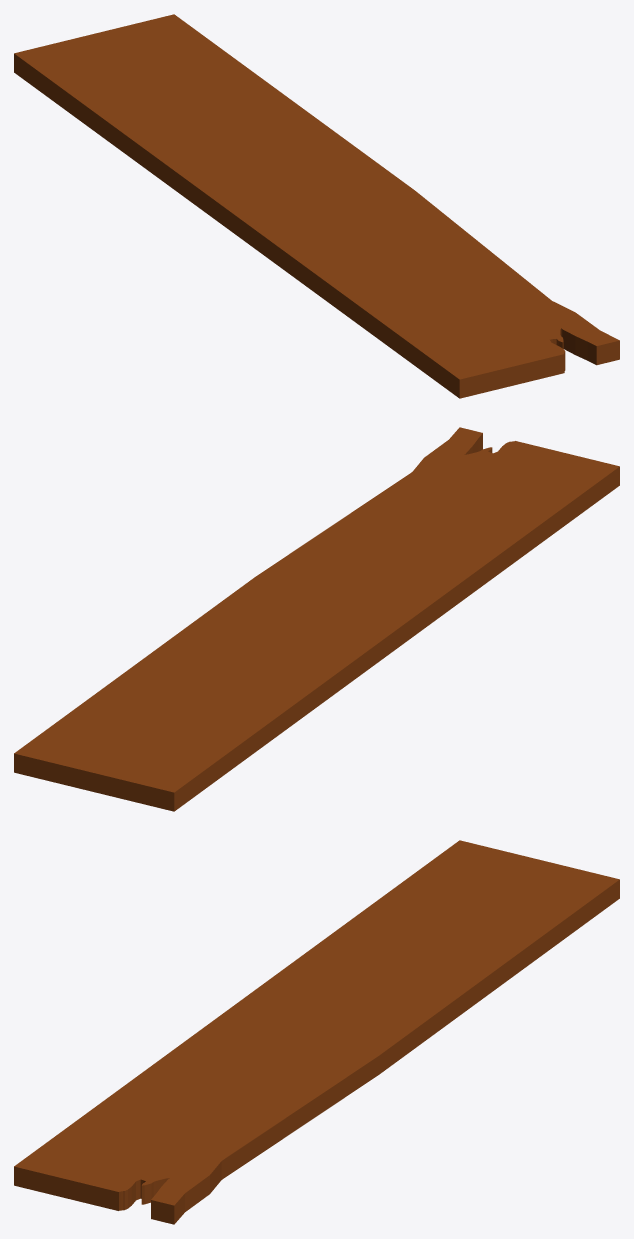
The model's file is Prop_Wood_Plank_01.FBX.
3 renders of one model, top to bottom at view 1: azimuth 30°, elevation 25°; view 2: azimuth 150°, elevation 25°; view 3: azimuth 330°, elevation 25°, orthographic.
Visible parts, largest first — view 1: Prop_Wood_Plank_01; view 2: Prop_Wood_Plank_01; view 3: Prop_Wood_Plank_01.
Part boxes in pixels (x1,y1,x2,y2): Prop_Wood_Plank_01: (14, 14, 619, 398); Prop_Wood_Plank_01: (14, 427, 619, 811); Prop_Wood_Plank_01: (14, 840, 619, 1224).
Size of the model in its own units: 344 by 39.17 by 1656.
